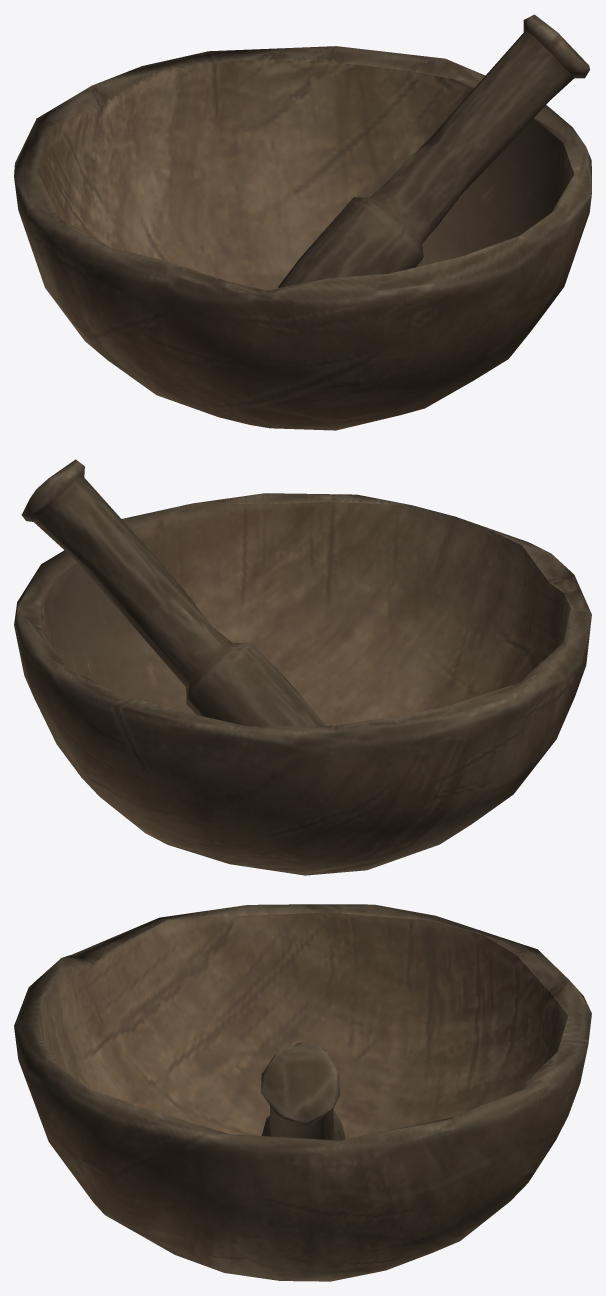
File: SM_Bowl_01.fbx
The picture shows the model from 3 angles, top to bottom: view 1: azimuth 30°, elevation 25°; view 2: azimuth 150°, elevation 25°; view 3: azimuth 270°, elevation 25°; orthographic projection.
Parts seen in each view (by area): view 1: SM_Bowl_02; view 2: SM_Bowl_02; view 3: SM_Bowl_02.
Boxes of the visible parts, box(x1,y1,x2,y2) form: SM_Bowl_02: box(14, 14, 591, 430); SM_Bowl_02: box(14, 459, 591, 875); SM_Bowl_02: box(14, 904, 591, 1281).
Bounding box in the file's own units: 53.65 × 28.56 × 50.77.
Materials: 1 (1 with a texture image).
